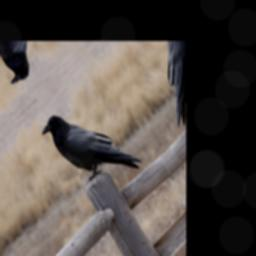Crow: (37, 76, 145, 216)
